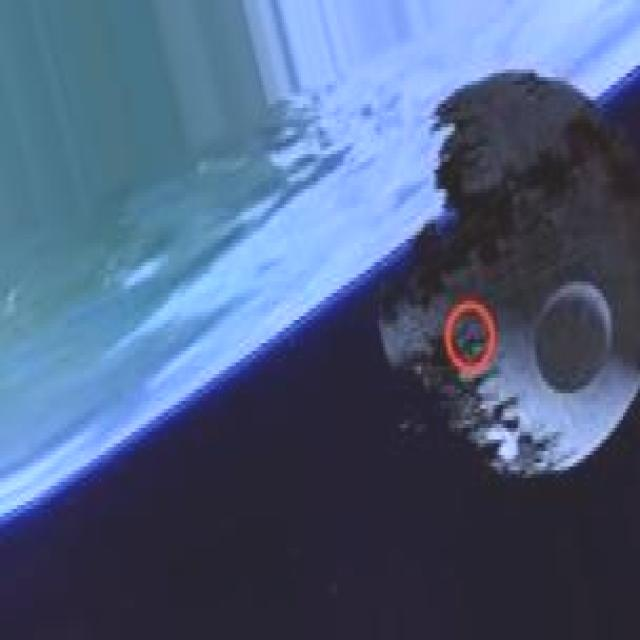deathstar: (377, 69, 640, 486)
